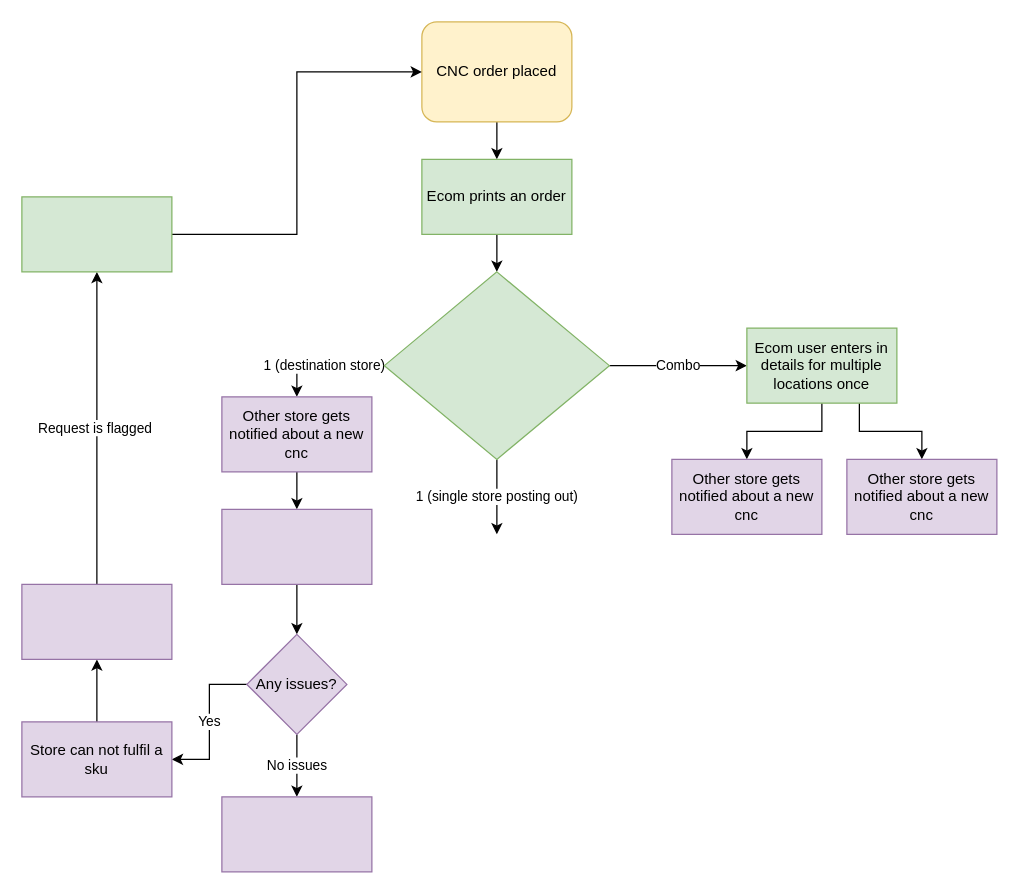
Some shapes in this 1019 by 894 pixel diagram are drawn without their labels. The shapes that lost their labels are listed below. From the top down, each one's box as (x1, y1, x2, y2) in pixels, then its label:
(21, 196, 172, 272): Appears back to ecom as a todo
(383, 271, 609, 459): How many requests will need to be created?
(221, 508, 372, 584): Store prints / picks order
(21, 583, 172, 659): Store updates request
